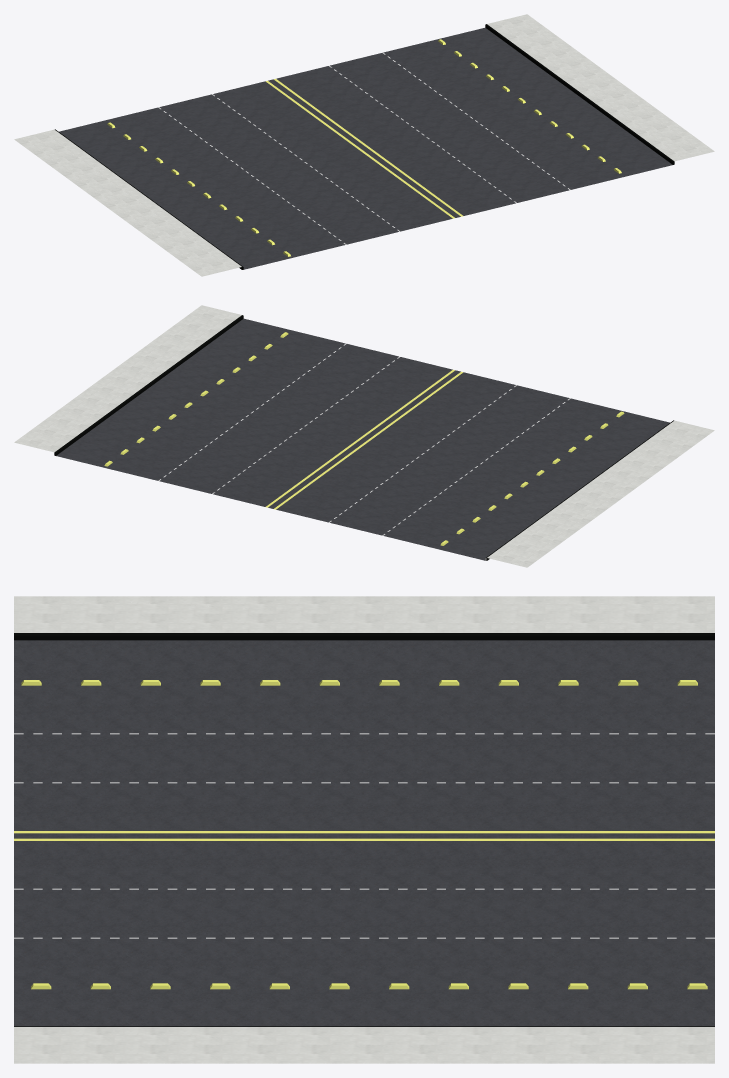
Rendered from avenida.fbx.
3 views of the same model, one above another, from view 1: azimuth 30°, elevation 25°; view 2: azimuth 150°, elevation 25°; view 3: azimuth 270°, elevation 25° (orthographic). The views are drawn at different scales.
Visible parts, largest first — view 1: Callle 1 carril con un lugar para estacionar.009; view 2: Callle 1 carril con un lugar para estacionar.009; view 3: Callle 1 carril con un lugar para estacionar.009.
Part boxes in pixels (left/top/right/bottom): Callle 1 carril con un lugar para estacionar.009: left=14, top=14, right=714, bottom=276; Callle 1 carril con un lugar para estacionar.009: left=14, top=305, right=714, bottom=567; Callle 1 carril con un lugar para estacionar.009: left=14, top=596, right=714, bottom=1063.
Size of the model in its own units: 3157 by 18.89 by 2000.
Materials: 6 (5 with a texture image).
